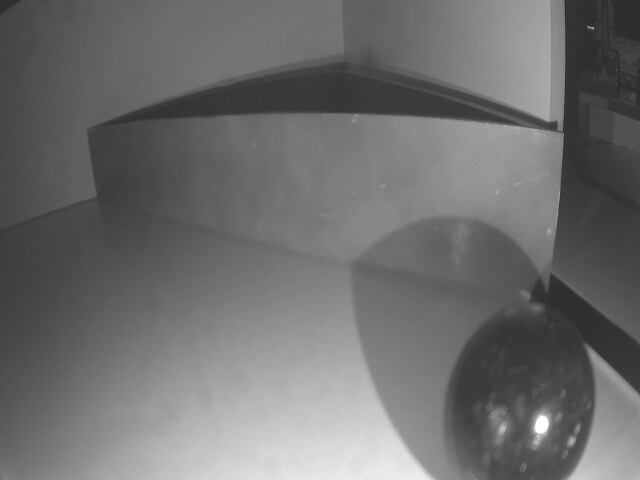Dead: (444, 290, 598, 480)
Green: (85, 124, 560, 307)
